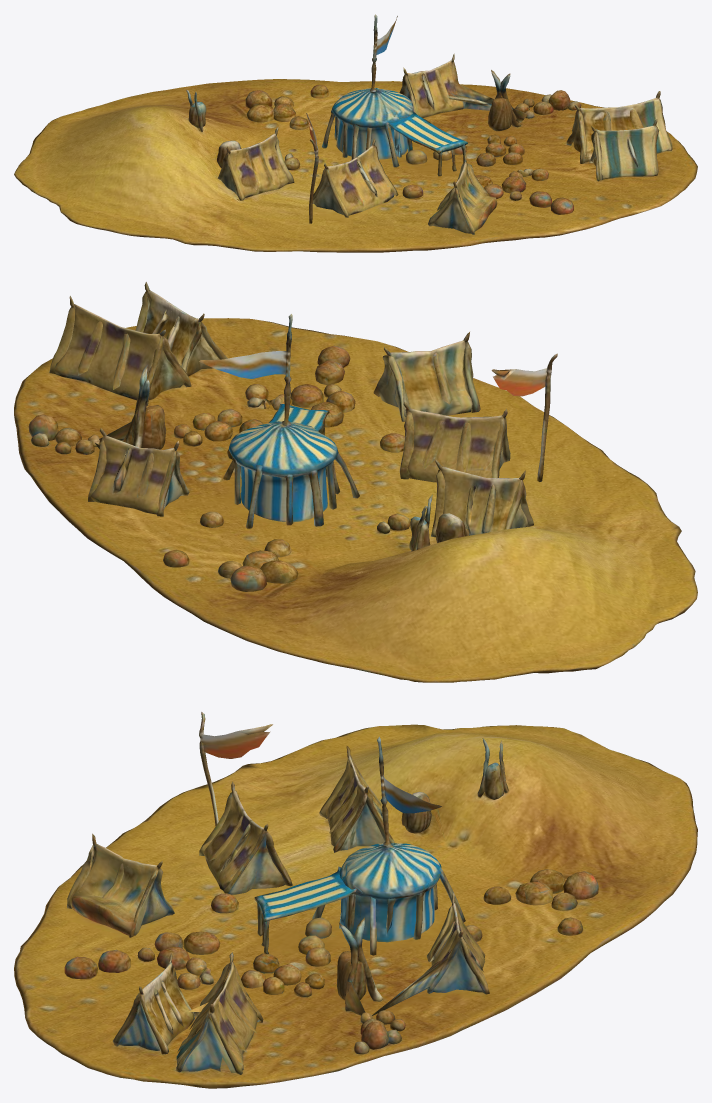
The model's file is site_camp.glb.
The picture shows the model from 3 angles, top to bottom: view 1: azimuth 30°, elevation 25°; view 2: azimuth 150°, elevation 25°; view 3: azimuth 270°, elevation 25°; orthographic projection. The views are drawn at different scales.
Bounding box in the file's own units: 1 × 0.2527 × 0.8071.
1 material, 1 textured.
